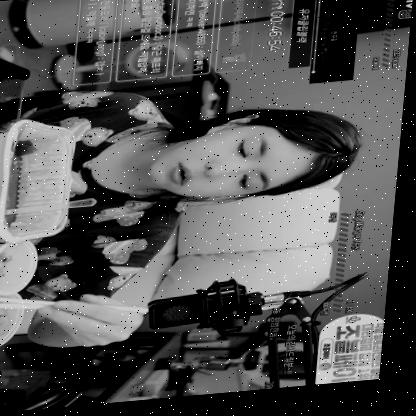streamer: (0, 71, 373, 357)
